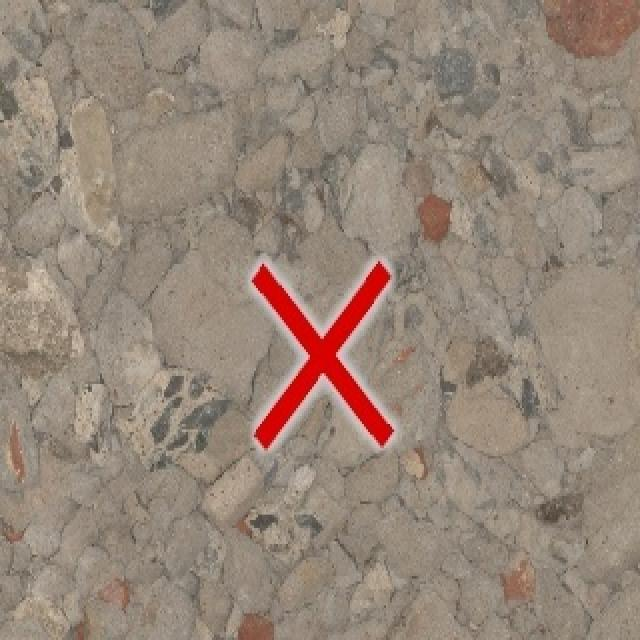x_marker: (251, 260, 393, 447)
